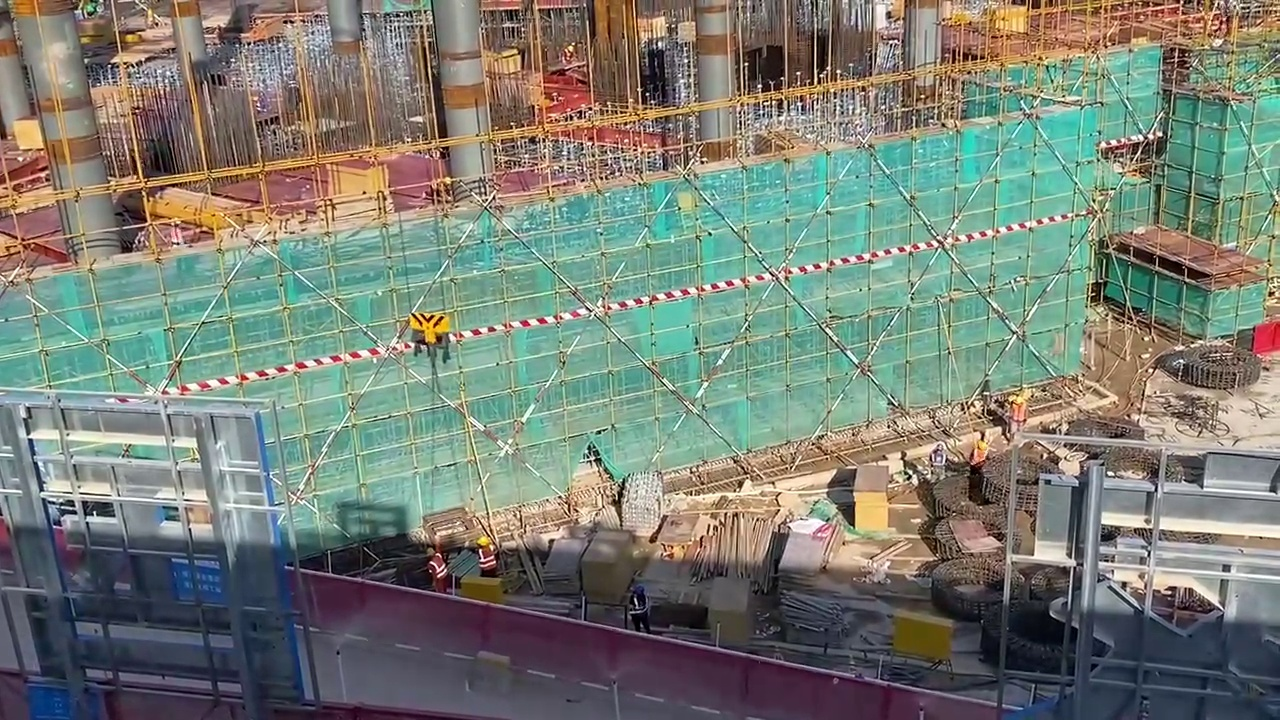board: (848, 462, 893, 528)
fence: (4, 669, 400, 720)
hook: (407, 311, 449, 344)
person: (422, 548, 448, 591), (475, 534, 498, 575), (629, 586, 648, 628)
vest: (428, 553, 448, 583), (479, 546, 496, 570)
wood: (701, 512, 771, 584)
